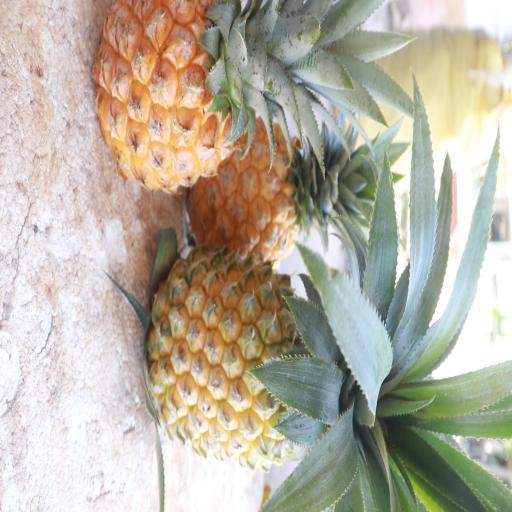Pineapple - v8 v1: (142, 242, 440, 466), (88, 1, 328, 201), (181, 113, 349, 279)
